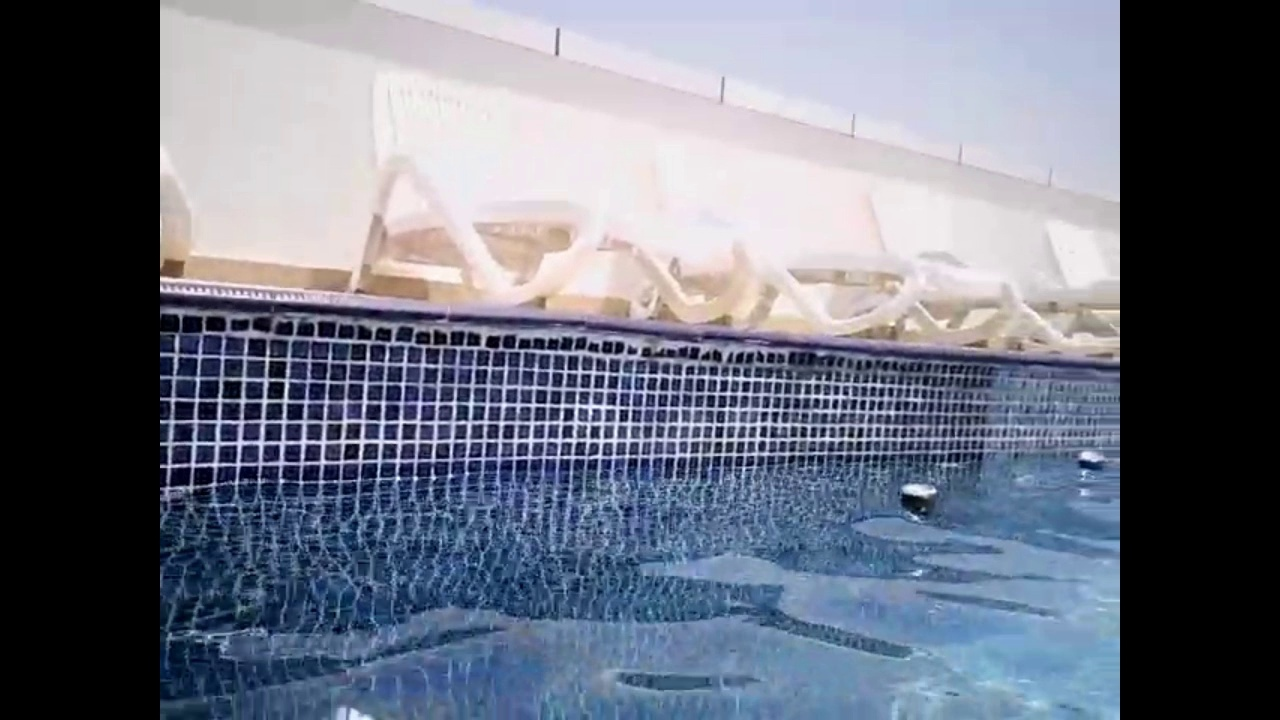debris: (894, 476, 941, 527), (1070, 443, 1112, 487)
